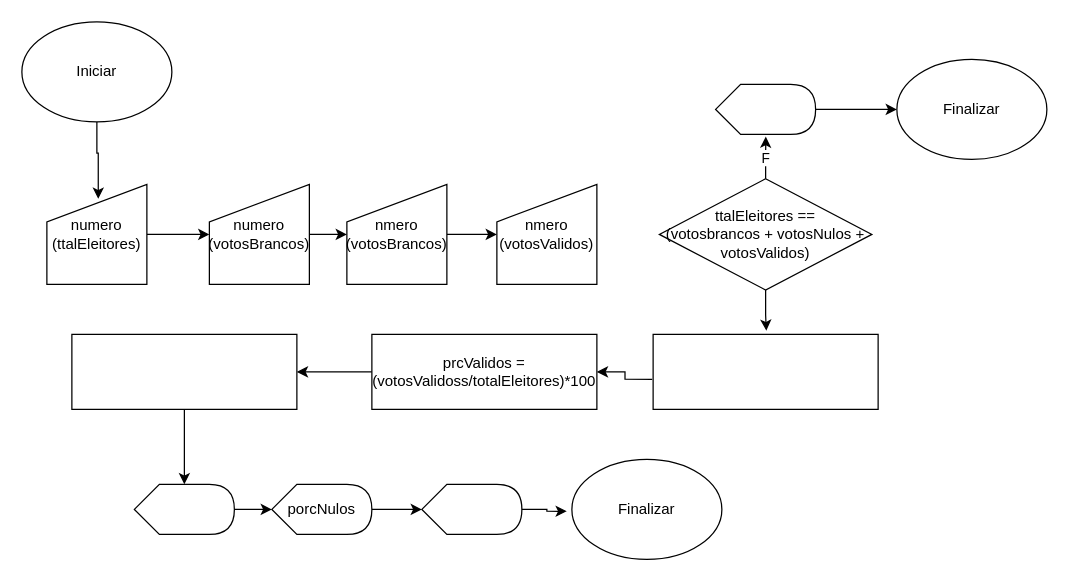
The diagram is 1069 pixels wide and 581 high, and some of its shapes have lost their labels. The box of each missing label's shape, as (x1, y1, x2, y2) in pixels:
Faude: (714, 83, 816, 134)
porcBrancos: (133, 483, 234, 534)
porcValidos: (421, 483, 522, 534)
prcBrancos = (votosBrancos/totalEleitores)*100: (652, 333, 878, 409)
prcNulos = (votosNulos/totalEleitores)*100: (71, 333, 297, 409)
